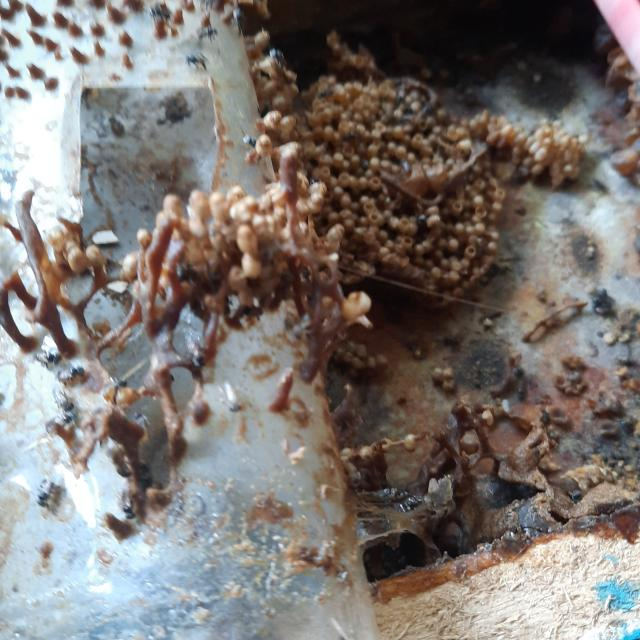honeybee: (179, 328, 208, 371), (52, 387, 76, 431), (28, 338, 61, 366), (36, 479, 64, 510), (146, 2, 177, 25), (119, 491, 140, 523), (225, 3, 246, 33), (182, 52, 212, 72), (267, 43, 287, 70), (102, 373, 130, 392), (57, 366, 86, 383), (129, 408, 148, 433), (191, 28, 221, 43), (244, 130, 262, 152)
